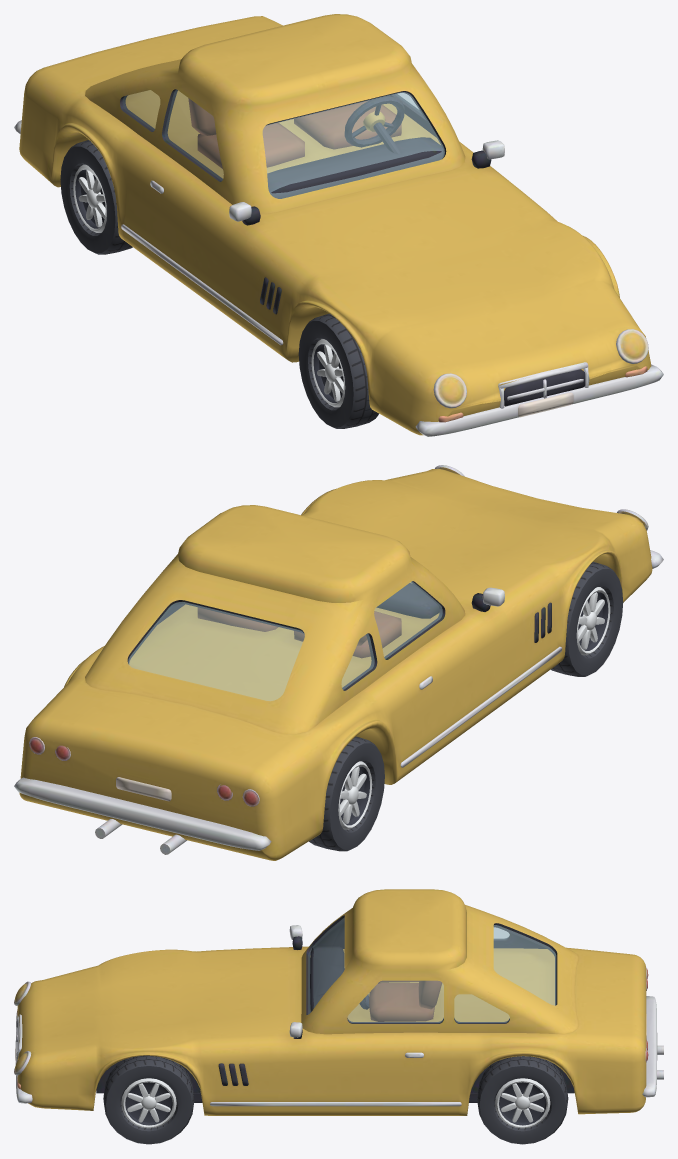
File: car-gt60.glb
The picture shows the model from 3 angles, top to bottom: view 1: azimuth 30°, elevation 25°; view 2: azimuth 150°, elevation 25°; view 3: azimuth 270°, elevation 25°; orthographic projection. The views are drawn at different scales.
Visible parts, largest first — view 1: car_body, car_windows, car_wheel_fr, car_wheel_rr; view 2: car_body, car_windows, car_wheel_rr, car_wheel_fr; view 3: car_body, car_windows, car_wheel_fl, car_wheel_rl.
Boxes of the visible parts, box(x1,y1,x2,y2) form: car_body: box(14, 14, 663, 436); car_windows: box(122, 89, 444, 198); car_wheel_fr: box(298, 313, 378, 428); car_wheel_rr: box(60, 140, 132, 254); car_body: box(14, 465, 663, 860); car_windows: box(128, 581, 442, 700); car_wheel_rr: box(309, 736, 384, 851); car_wheel_fr: box(551, 562, 623, 676); car_body: box(14, 889, 663, 1115); car_windows: box(308, 918, 555, 1022); car_wheel_fl: box(103, 1055, 194, 1144); car_wheel_rl: box(477, 1056, 568, 1144).
Bounding box in the file's own units: 1.73 × 1.3 × 4.42.
6 materials, 2 textured.
